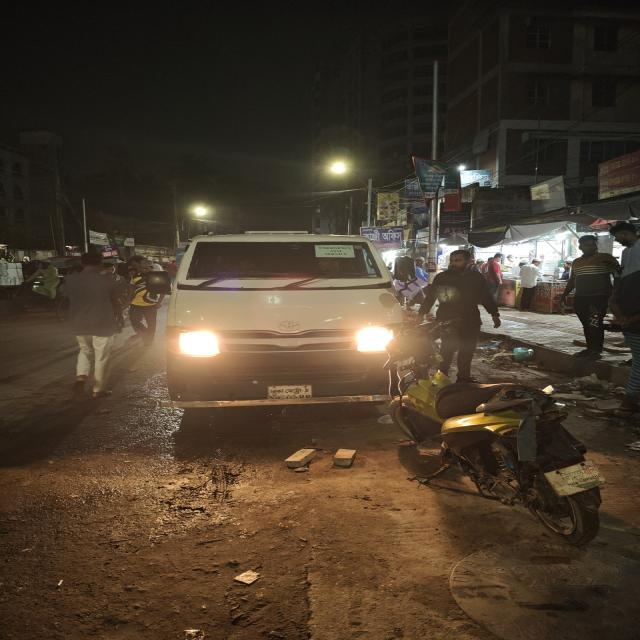car: (164, 230, 410, 421)
motorcycle: (425, 380, 625, 552)
pedestrian: (583, 230, 640, 456), (415, 250, 506, 382), (54, 255, 131, 388), (554, 235, 629, 355), (120, 279, 158, 337), (24, 257, 64, 305), (514, 258, 540, 308)
truck: (169, 230, 409, 358)
